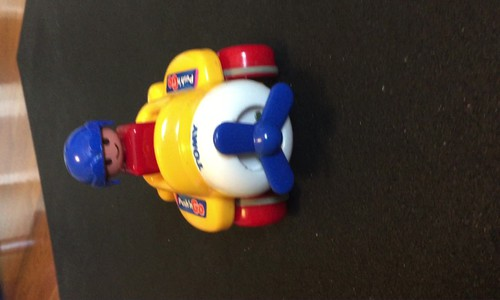toy: (59, 42, 307, 234)
